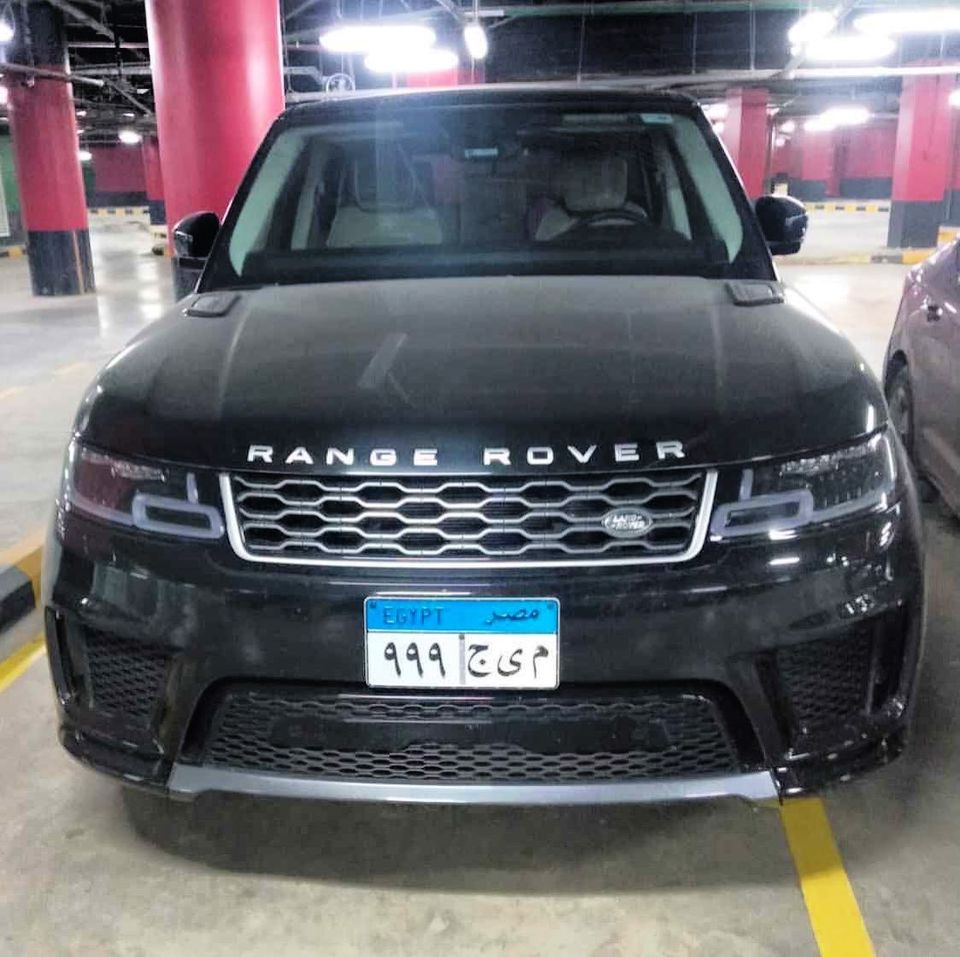carpl: (363, 605, 559, 688)
